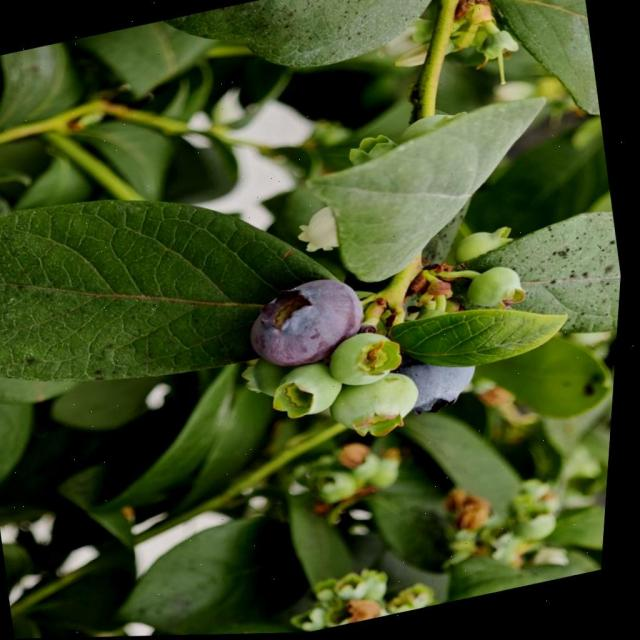RipeBlueBerry: (399, 352, 489, 422)
Semi-RipeBlueBerry: (241, 271, 378, 376)
UnripeBlueBerry: (329, 370, 432, 449)
